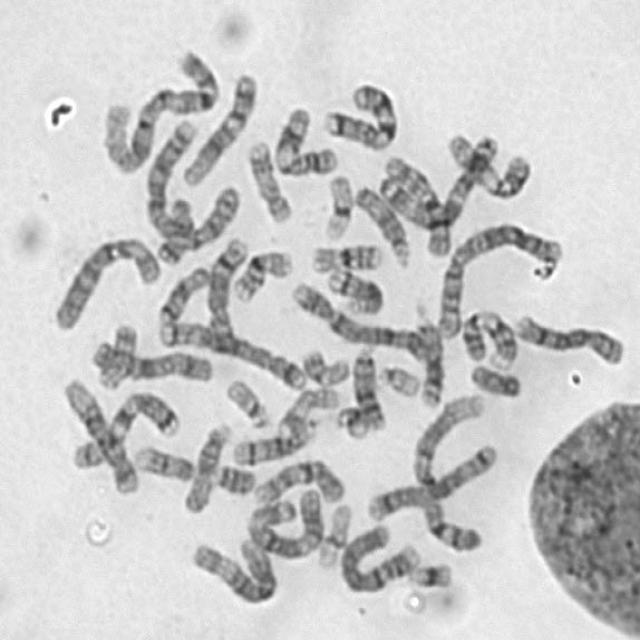A1: (97, 40, 221, 176), (406, 383, 489, 555)
A2: (431, 214, 566, 340), (136, 111, 243, 254)
A3: (372, 124, 502, 232), (238, 481, 326, 561)
B4: (284, 272, 430, 362), (333, 516, 422, 596)
B5: (360, 435, 500, 522), (153, 313, 309, 391)
C10: (377, 149, 453, 258), (245, 450, 347, 507)
C11: (442, 125, 534, 201), (266, 98, 339, 178)
C12: (56, 370, 140, 497), (175, 64, 260, 188)
C6: (47, 228, 163, 333), (185, 529, 280, 607)
C7: (65, 384, 182, 471), (317, 74, 400, 153)
C8: (507, 304, 628, 368), (201, 230, 251, 346)
C9: (118, 440, 263, 496), (455, 301, 519, 369)
D13: (408, 300, 446, 409), (346, 338, 389, 431)
D14: (225, 416, 318, 466), (320, 260, 386, 316)
D15: (348, 175, 414, 269), (176, 416, 233, 514)
E16: (226, 242, 294, 303), (304, 234, 386, 275)
E17: (242, 133, 294, 225), (270, 378, 341, 436)
E18: (152, 258, 213, 327), (150, 190, 197, 266)
F19: (311, 496, 355, 571), (316, 165, 356, 242)
F20: (89, 316, 141, 390), (294, 342, 352, 387)
G21: (401, 555, 455, 591), (329, 397, 371, 442)
G22: (219, 370, 273, 430), (371, 358, 423, 398)
X: (85, 333, 215, 385)
Y: (464, 356, 524, 399)
